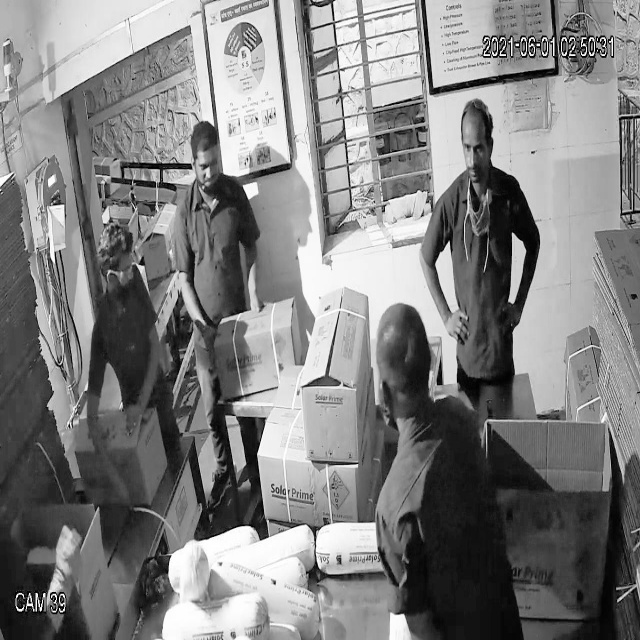Gafas: (99, 253, 139, 289)
Sin_gafas: (457, 126, 498, 168), (182, 145, 225, 181)
